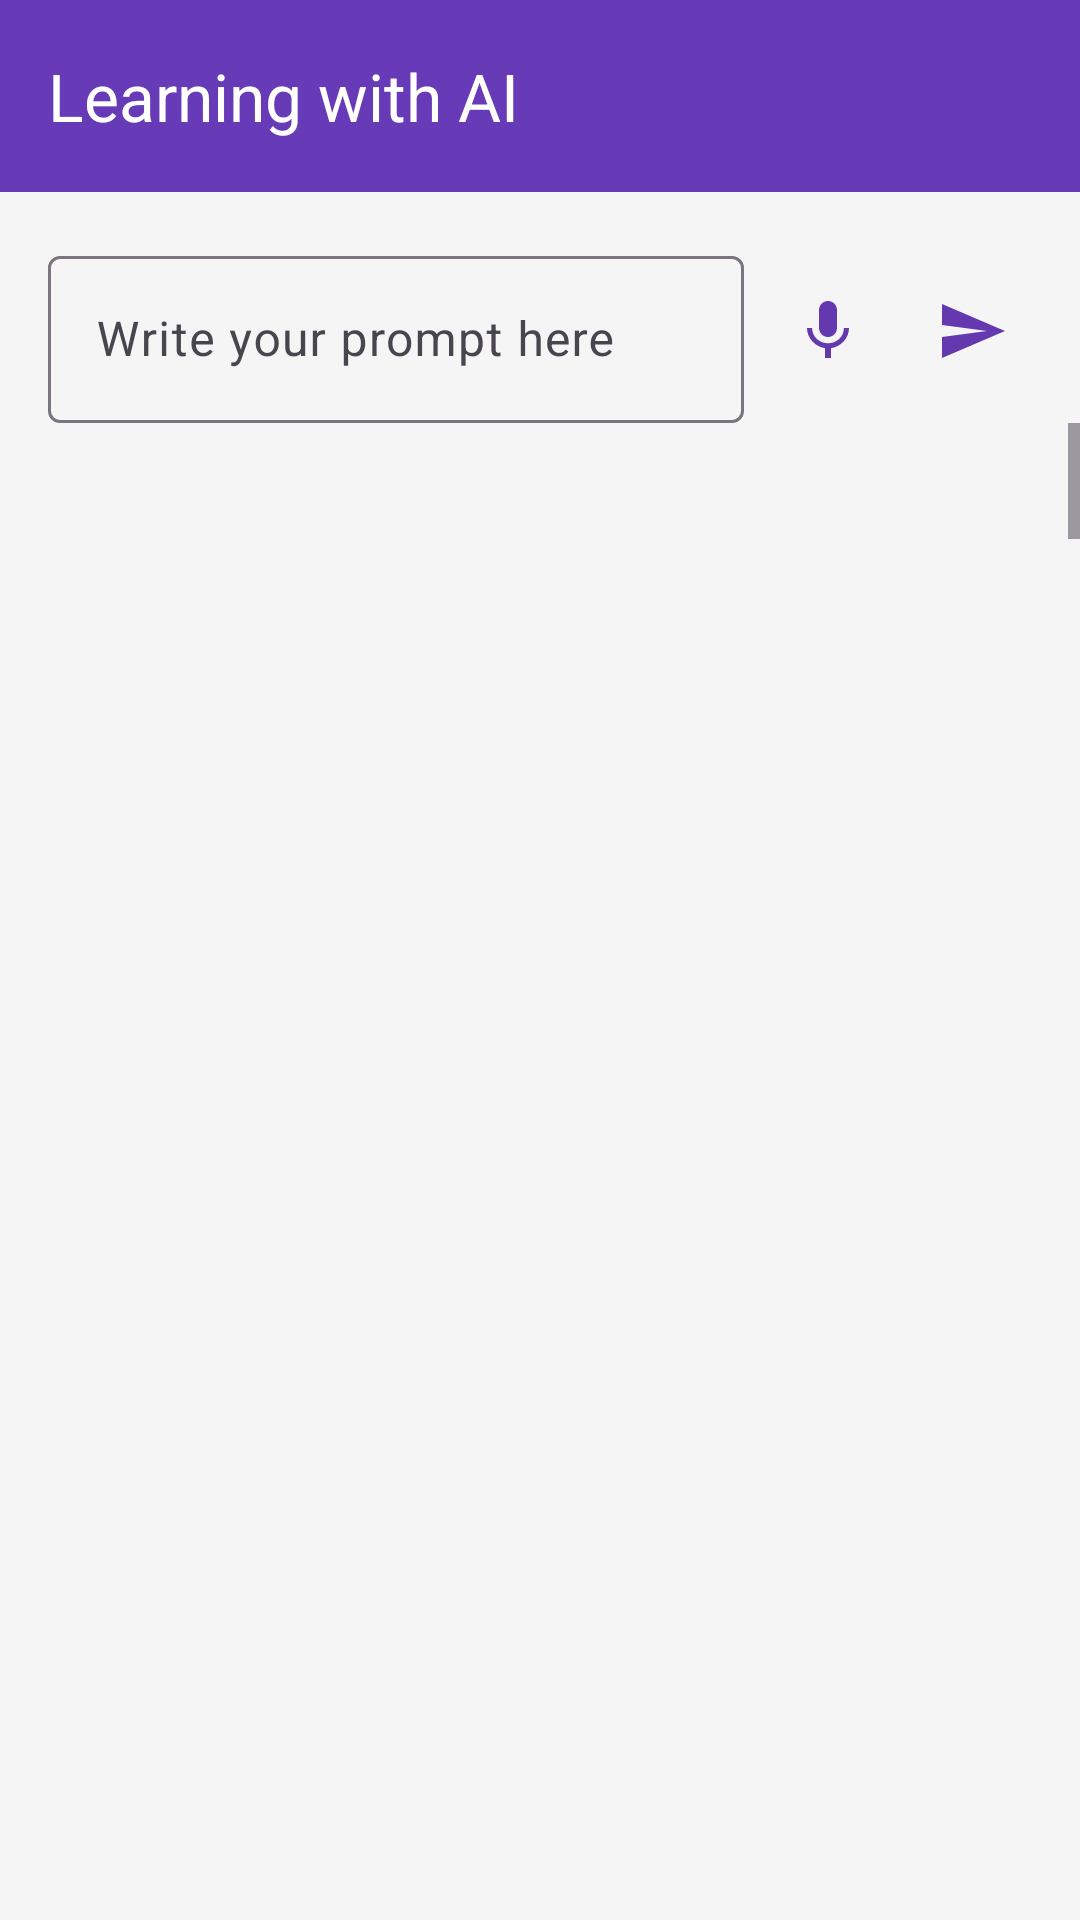

Where to tap for icons on this 1080px x 1920px app screen, as (x,y):
Record: (828,329)
Send: (973,331)
